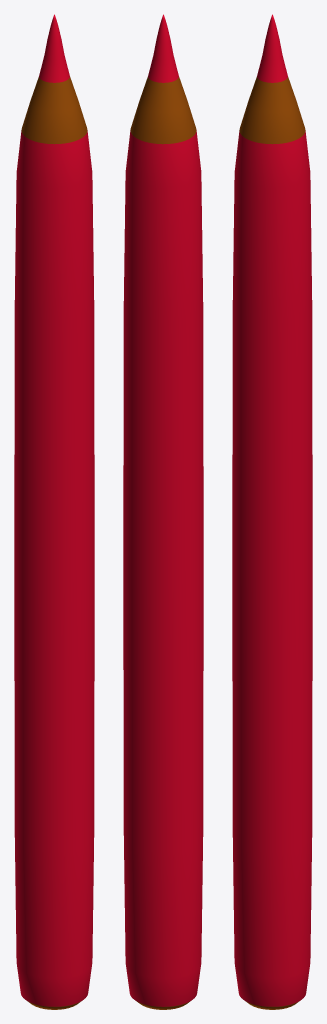
Rendered from pencil2.fbx.
The picture shows the model from 3 angles, left to right: view 1: azimuth 90°, elevation 25°; view 2: azimuth 150°, elevation 25°; view 3: azimuth 270°, elevation 25°; orthographic projection.
Parts seen in each view (by area): view 1: Цилиндр; view 2: Цилиндр; view 3: Цилиндр.
Boxes of the visible parts, x1=… form: Цилиндр: x1=14, y1=14, x2=94, y2=1009; Цилиндр: x1=123, y1=14, x2=203, y2=1009; Цилиндр: x1=232, y1=14, x2=312, y2=1009.
Bounding box in the file's own units: 2.08 × 28.06 × 2.08.
